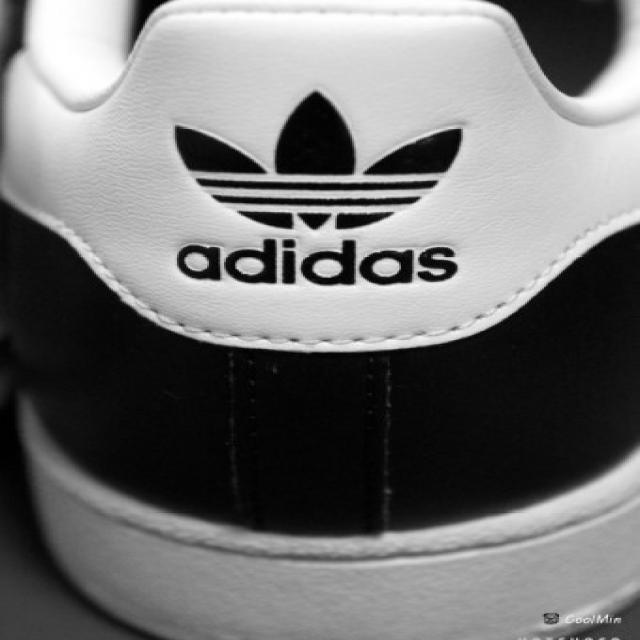Adidas: (162, 80, 476, 236)
